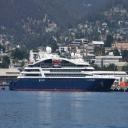cruises: (9, 44, 117, 95)
